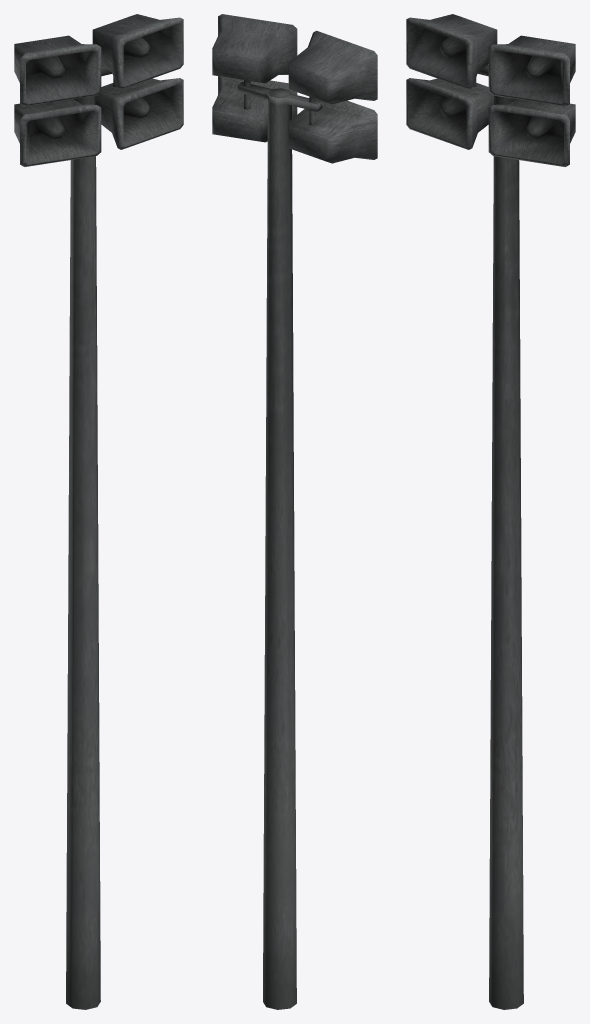
Rendered from PFB-Racing-Track-Assets-01-Radio.fbx.
The picture shows the model from 3 angles, left to right: view 1: azimuth 30°, elevation 25°; view 2: azimuth 150°, elevation 25°; view 3: azimuth 330°, elevation 25°; orthographic projection. The views are drawn at different scales.
Visible parts, largest first — view 1: radio; view 2: radio; view 3: radio.
Boxes of the visible parts, x1,y1,x2,y2 form: radio: (14,14,183,1009); radio: (212,14,377,1009); radio: (406,14,575,1009).
Size of the model in its own units: 13.12 by 75.01 by 5.15.
